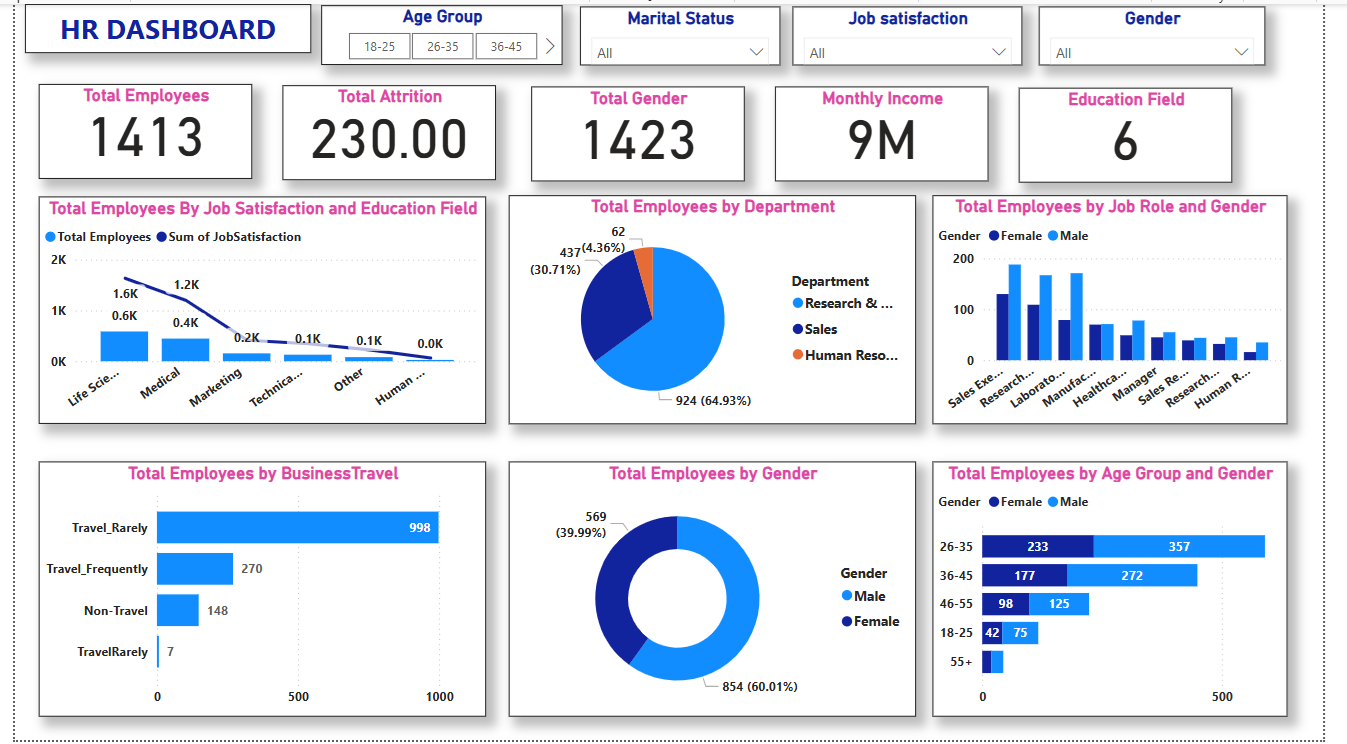

This screenshot's page, from the dashboard's own definition file:
{"tool":"powerbi","page":{"name":"Page 1","canvas":[1280,720],"ordinal":0},"visuals":[{"type":"textbox","box":[9.8,0,280,47.7],"z":0},{"type":"slicer","title":"Age Group","fields":{"Values":["HR_Analytics.AgeGroup"]},"box":[299.6,1.2,236,58.7],"z":1000},{"type":"slicer","title":"Marital Status","fields":{"Values":["HR_Analytics.MaritalStatus"]},"box":[552.7,2.4,195.7,57.5],"z":2000},{"type":"slicer","title":"Job satisfaction","fields":{"Values":["HR_Analytics.JobSatisfaction"]},"box":[760.6,2.4,225,57.5],"z":3000},{"type":"slicer","title":"Gender","fields":{"Values":["HR_Analytics.Gender"]},"box":[1001.5,2.4,221.3,57.5],"z":4000},{"type":"card","title":"Total Employees","fields":{"Values":["Count(HR_Analytics.EmpID)"]},"box":[23.2,78.3,209.1,92.9],"z":5000},{"type":"card","title":"Total Attrition","fields":{"Values":["Sum(HR_Analytics.Attrition count)"]},"box":[261.7,79.5,209.1,92.9],"z":6000},{"type":"card","title":"Total Gender","fields":{"Values":["CountNonNull(HR_Analytics.Gender)"]},"box":[505,80.7,209.1,92.9],"z":7000},{"type":"card","title":"Monthly Income","fields":{"Values":["Sum(HR_Analytics.MonthlyIncome)"]},"box":[743.5,80.7,209.1,92.9],"z":8000},{"type":"card","title":"Education Field","fields":{"Values":["Count(HR_Analytics.EducationField)"]},"box":[981.9,81.9,209.1,92.9],"z":9000},{"type":"lineClusteredColumnComboChart","title":"Total Employees By Job Satisfaction and Education Field","fields":{"Category":["HR_Analytics.EducationField"],"Y":["HR_Analytics.Total Employees"],"Y2":["Sum(HR_Analytics.JobSatisfaction)"]},"box":[23.2,188.3,437.8,222.6],"z":10000},{"type":"pieChart","fields":{"Y":["HR_Analytics.Total Employees"],"Category":["HR_Analytics.Department"]},"box":[483,187.1,398.6,223.8],"z":11000},{"type":"lineClusteredColumnComboChart","title":"Total Employees by Job Role and Gender","fields":{"Y":["HR_Analytics.Total Employees"],"Category":["HR_Analytics.JobRole"],"Series":["HR_Analytics.Gender"]},"box":[897.6,187.1,347.3,223.8],"z":12000},{"type":"clusteredBarChart","fields":{"Y":["HR_Analytics.Total Employees"],"Category":["HR_Analytics.BusinessTravel"]},"box":[23.2,447.6,437.8,249.5],"z":13000},{"type":"donutChart","fields":{"Y":["HR_Analytics.Total Employees"],"Category":["HR_Analytics.Gender"]},"box":[483,447.6,398.6,249.5],"z":14000},{"type":"barChart","title":"Total Employees by Age Group and Gender","fields":{"Category":["HR_Analytics.AgeGroup"],"Y":["HR_Analytics.Total Employees"],"Series":["HR_Analytics.Gender"]},"box":[897.6,447.6,347.3,249.5],"z":15000}]}

Visuals, with their boxes in screenshot pixels (x1, y1, x2, y2), scaled from the page's 1280x720 canvas onto the 1347x744 screenshot:
textbox: 10, 0, 305, 49
"Age Group" slicer: 315, 1, 564, 62
"Marital Status" slicer: 582, 2, 788, 62
"Job satisfaction" slicer: 800, 2, 1037, 62
"Gender" slicer: 1054, 2, 1287, 62
"Total Employees" card: 24, 81, 244, 177
"Total Attrition" card: 275, 82, 495, 178
"Total Gender" card: 531, 83, 751, 179
"Monthly Income" card: 782, 83, 1002, 179
"Education Field" card: 1033, 85, 1253, 181
"Total Employees By Job Satisfaction and Education Field" lineClusteredColumnComboChart: 24, 195, 485, 425
pieChart - HR_Analytics.Total Employees x HR_Analytics.Department: 508, 193, 928, 425
"Total Employees by Job Role and Gender" lineClusteredColumnComboChart: 945, 193, 1310, 425
clusteredBarChart - HR_Analytics.Total Employees x HR_Analytics.BusinessTravel: 24, 463, 485, 720
donutChart - HR_Analytics.Total Employees x HR_Analytics.Gender: 508, 463, 928, 720
"Total Employees by Age Group and Gender" barChart: 945, 463, 1310, 720
